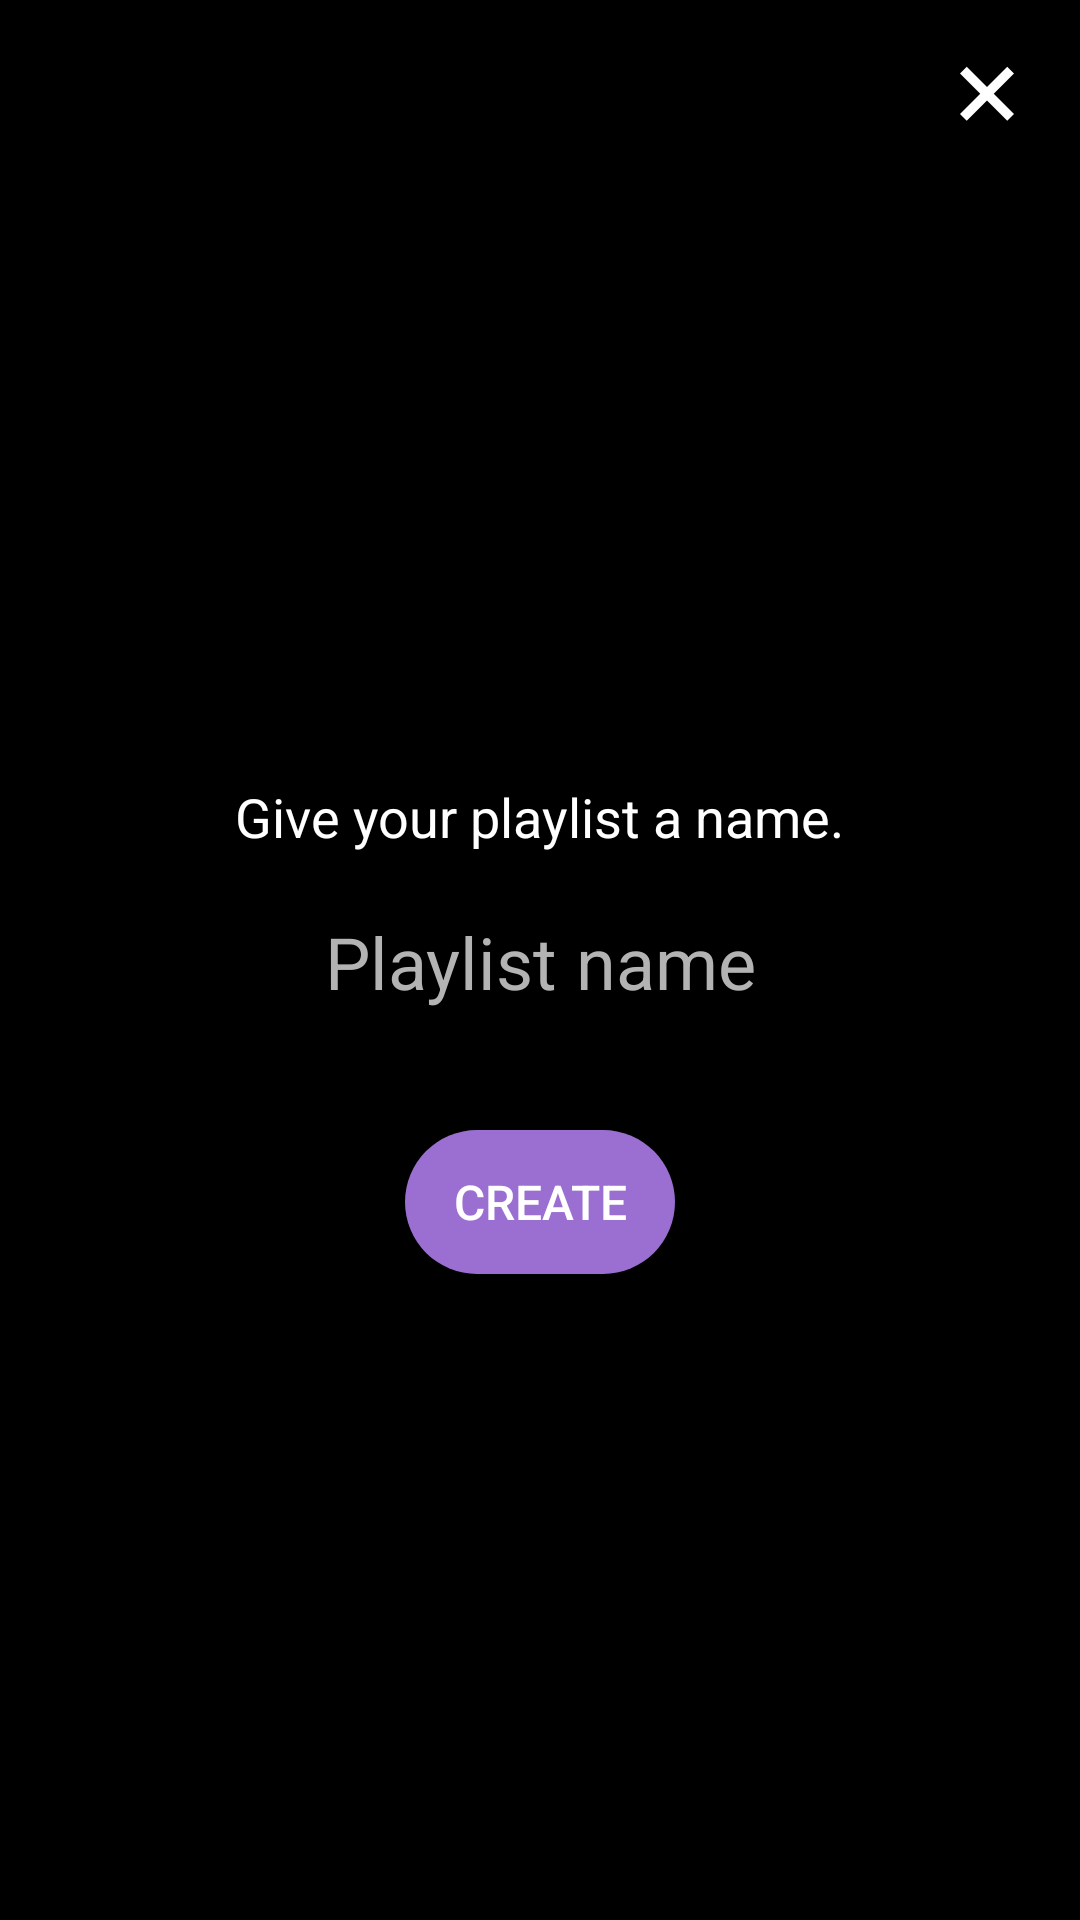

Locate icon controls on the screen. Image size 1080×1920, boxes as (x1, y1, x2, y2).
Close: (960, 67, 1014, 121)
